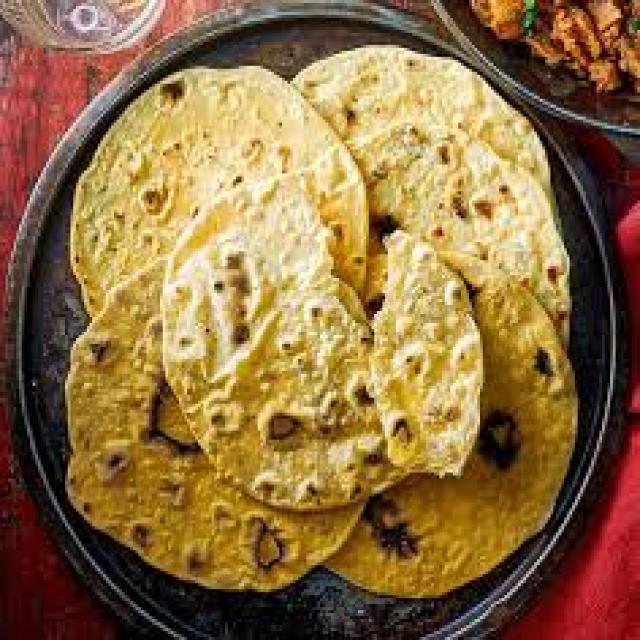ROTI: (71, 263, 373, 586), (304, 250, 570, 587), (74, 71, 368, 313), (297, 48, 558, 199), (345, 151, 567, 311)
